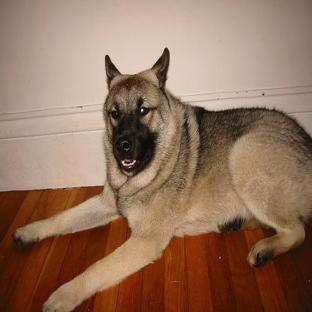Animal: (13, 48, 311, 310)
